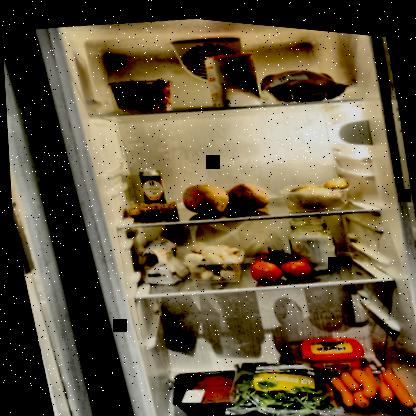beef: (159, 356, 253, 415)
butter: (292, 323, 367, 377)
carrot: (320, 347, 413, 412)
chicken: (255, 52, 351, 106)
heavy_cream: (135, 162, 167, 212)
mushrooms: (176, 230, 243, 285)
potato: (278, 164, 355, 211)
shrimp: (120, 192, 179, 222)
spinach: (208, 340, 339, 415)
strawberries: (102, 68, 181, 119)
sweet_potato: (174, 167, 271, 220)
tomato: (238, 231, 314, 285)
